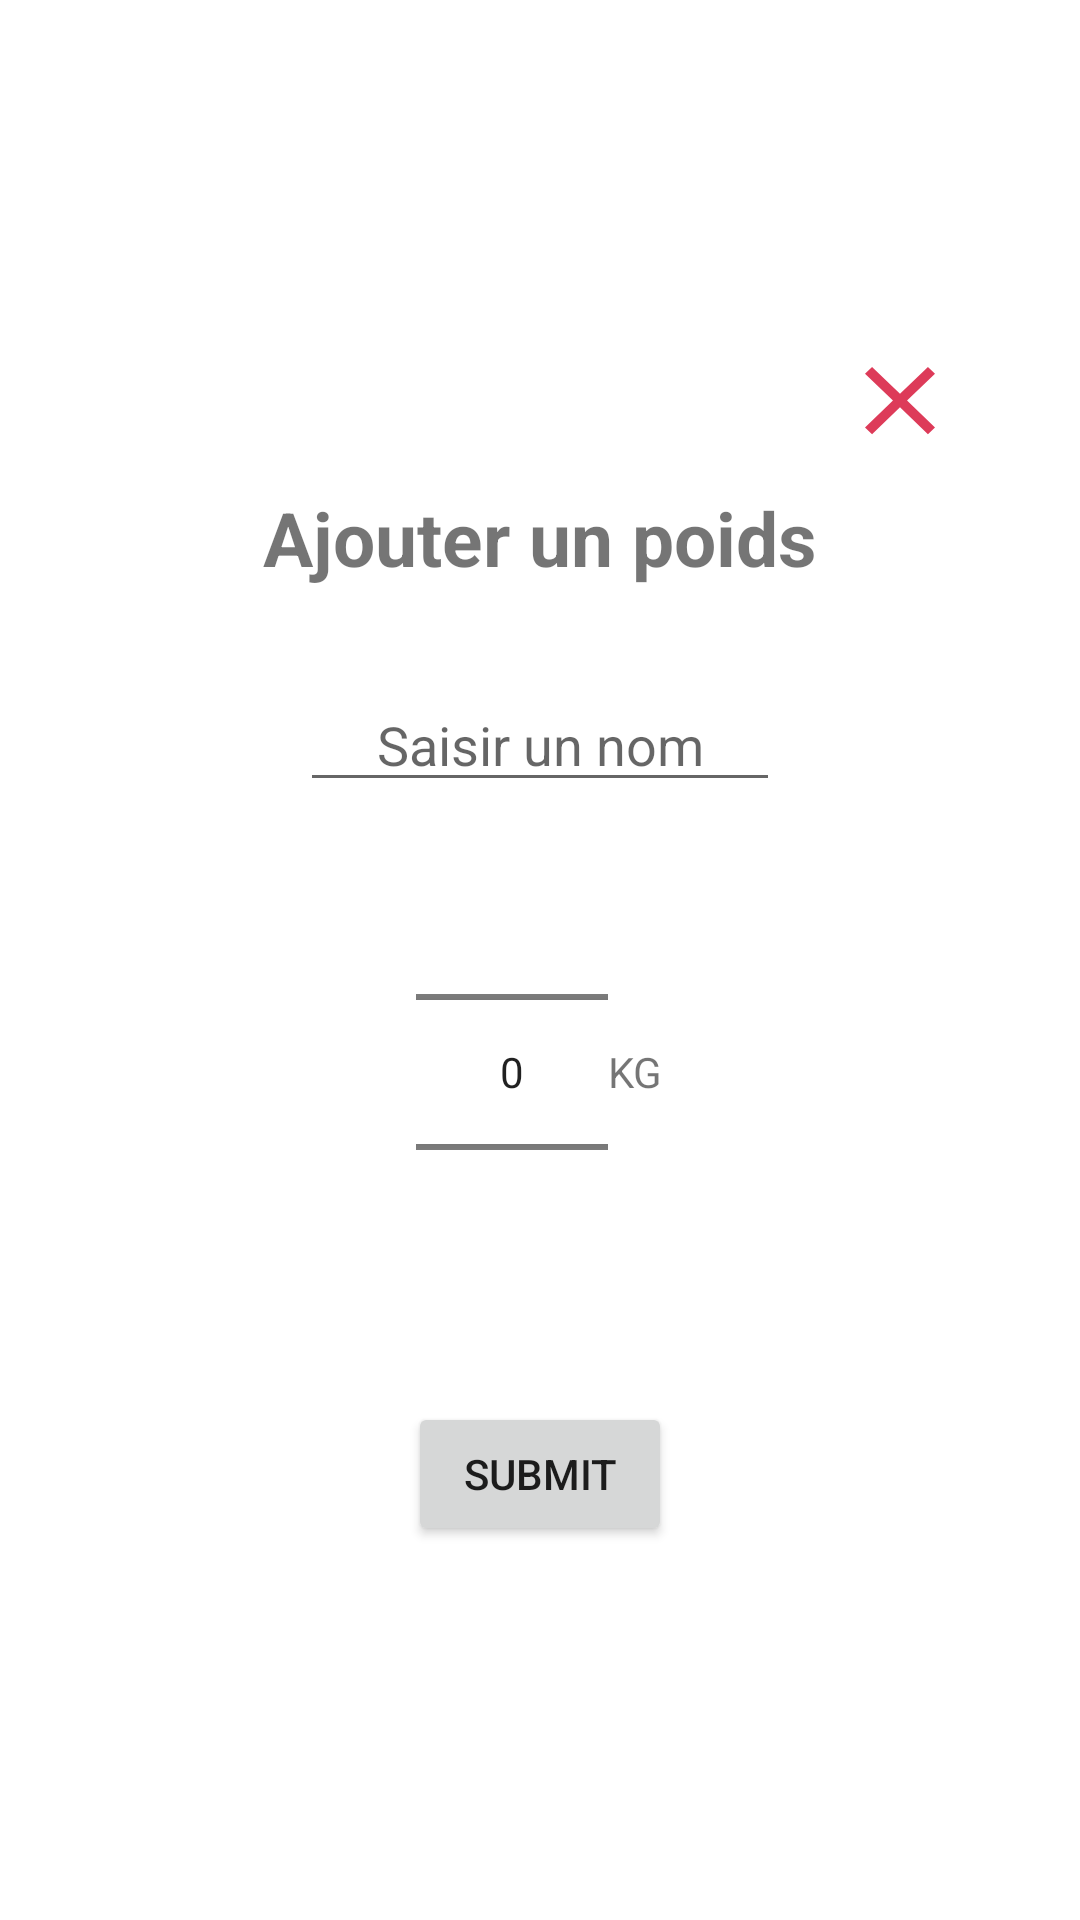

Icon bounding boxes for this 1080 x 1920 phone screenshot, format bbox=(x1, y1, x2, y2):
cross: bbox=(865, 367, 935, 434)
